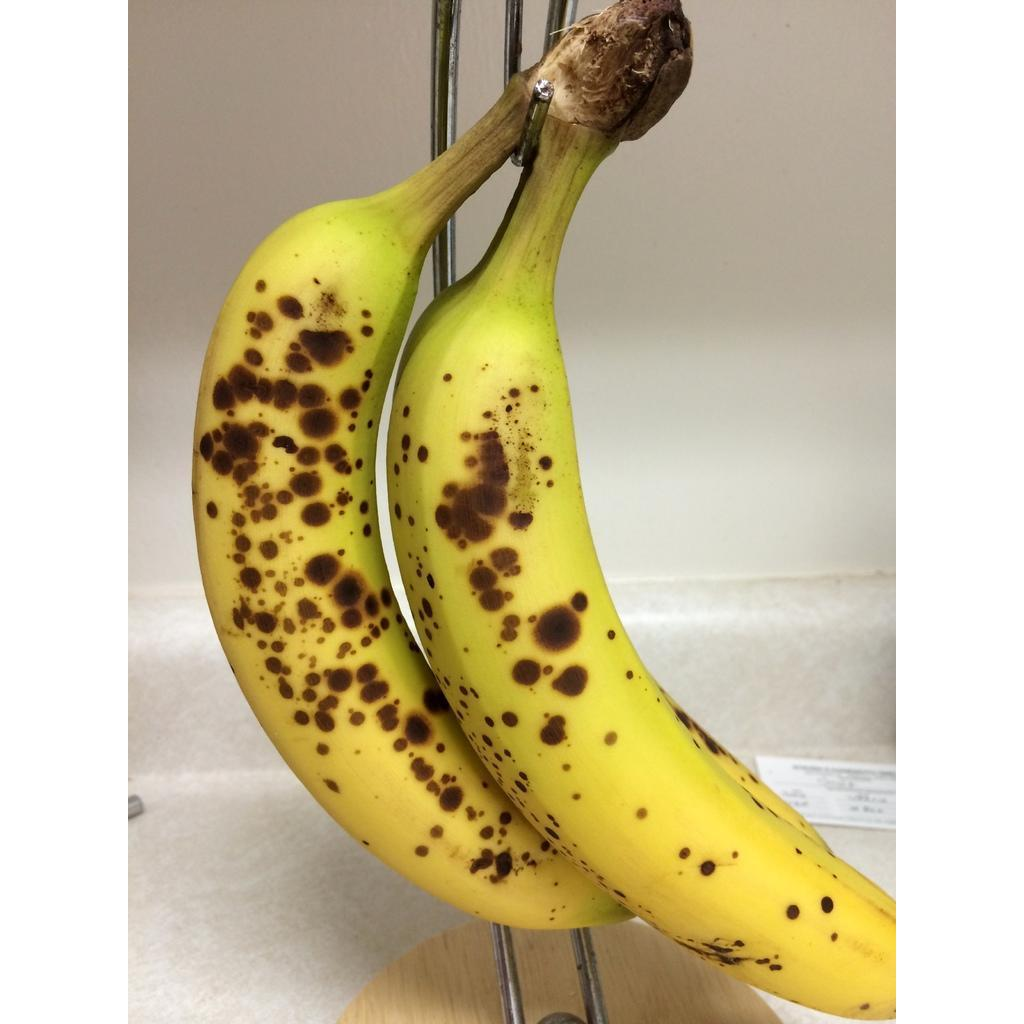banana: (375, 4, 896, 1022), (192, 77, 624, 933)
